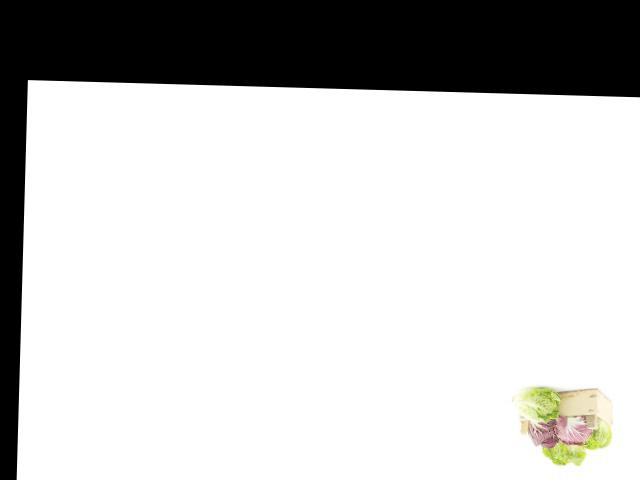lettuce: (541, 435, 586, 466)
